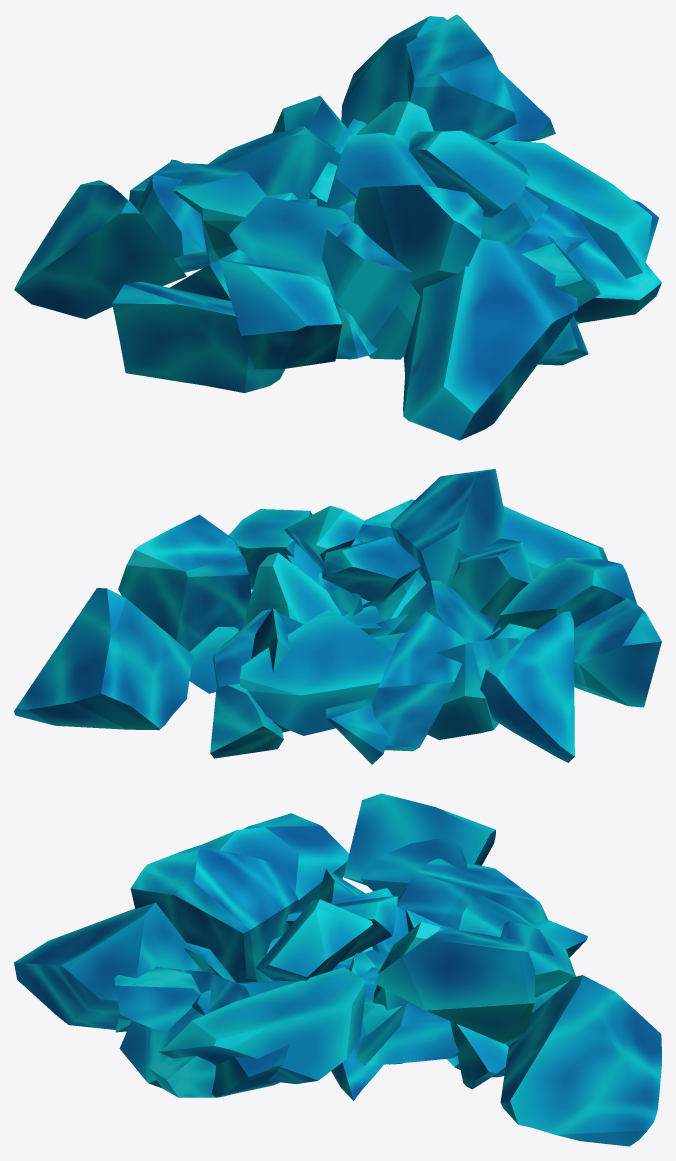
The model's file is Floating_rocks_Destroyed.gltf.
The picture shows the model from 3 angles, top to bottom: view 1: azimuth 30°, elevation 25°; view 2: azimuth 150°, elevation 25°; view 3: azimuth 270°, elevation 25°; orthographic projection. The views are drawn at different scales.
Visible parts, largest first — view 1: EN_FloatingRock_04_destroyed, EN_FloatingRock_02_destroyed, EN_FloatingRock_01_destroyed, EN_FloatingRock_03_destroyed; view 2: EN_FloatingRock_04_destroyed, EN_FloatingRock_02_destroyed, EN_FloatingRock_01_destroyed, EN_FloatingRock_03_destroyed; view 3: EN_FloatingRock_04_destroyed, EN_FloatingRock_02_destroyed, EN_FloatingRock_01_destroyed, EN_FloatingRock_03_destroyed.
Boxes of the visible parts, bbox=[...] form: EN_FloatingRock_04_destroyed: bbox=[14, 16, 658, 440]; EN_FloatingRock_02_destroyed: bbox=[129, 14, 661, 369]; EN_FloatingRock_01_destroyed: bbox=[135, 126, 651, 359]; EN_FloatingRock_03_destroyed: bbox=[267, 192, 588, 365]; EN_FloatingRock_04_destroyed: bbox=[14, 506, 661, 764]; EN_FloatingRock_02_destroyed: bbox=[118, 469, 636, 751]; EN_FloatingRock_01_destroyed: bbox=[228, 499, 536, 739]; EN_FloatingRock_03_destroyed: bbox=[188, 598, 500, 758]; EN_FloatingRock_04_destroyed: bbox=[14, 793, 661, 1146]; EN_FloatingRock_02_destroyed: bbox=[130, 827, 547, 1100]; EN_FloatingRock_01_destroyed: bbox=[114, 838, 575, 1083]; EN_FloatingRock_03_destroyed: bbox=[115, 949, 568, 1089].
Bounding box in the file's own units: 1.95 × 0.6596 × 2.07.
Materials: 1 (1 with a texture image).
